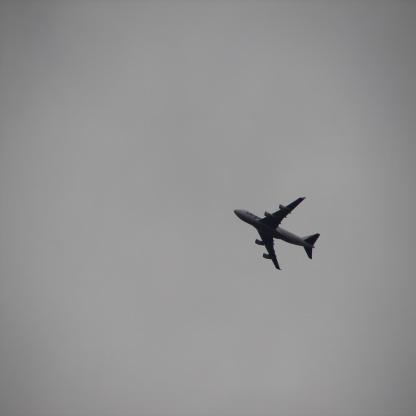CIV_Plane: (225, 192, 320, 274)
